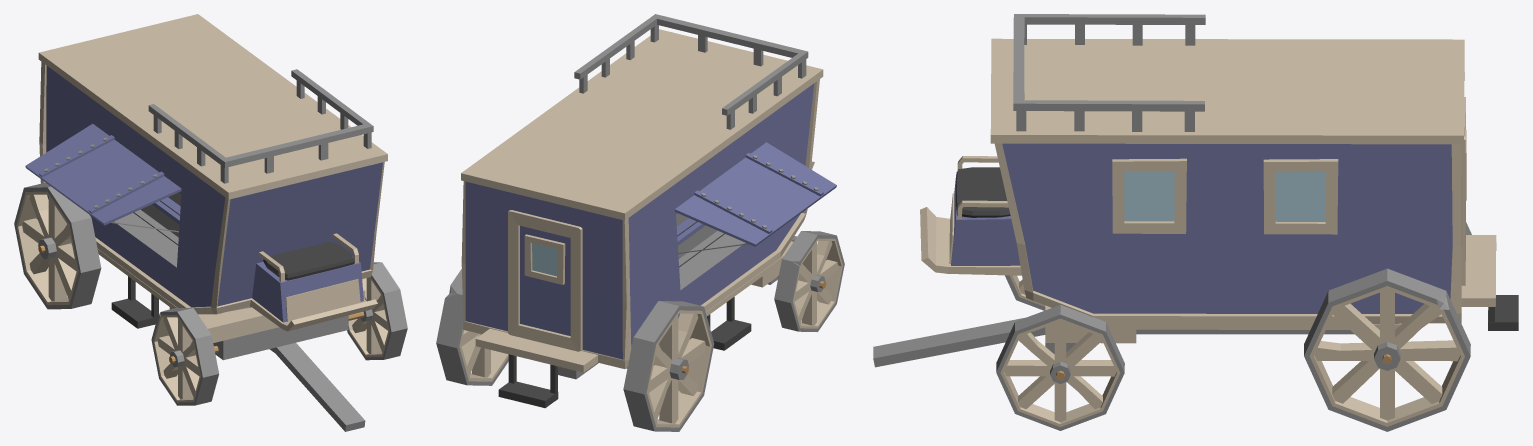
Rendered from Medicine_Caravan.fbx.
3 views of the same model, side by side, from view 1: azimuth 30°, elevation 25°; view 2: azimuth 150°, elevation 25°; view 3: azimuth 270°, elevation 25° (orthographic). The views are drawn at different scales.
Visible parts, largest first — view 1: Medicine_Caravan; view 2: Medicine_Caravan; view 3: Medicine_Caravan.
Part boxes in pixels (x1,y1,x2,y2): Medicine_Caravan: (14,14,407,431); Medicine_Caravan: (436,14,844,431); Medicine_Caravan: (873,14,1518,431).
Size of the model in its own units: 448 by 784 by 417.
